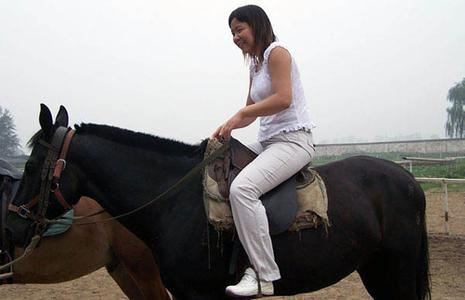person: (213, 6, 316, 295)
